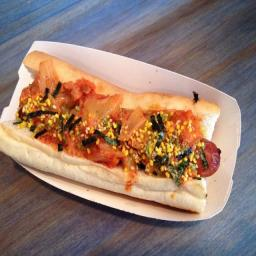hotdog: (0, 41, 229, 224)
